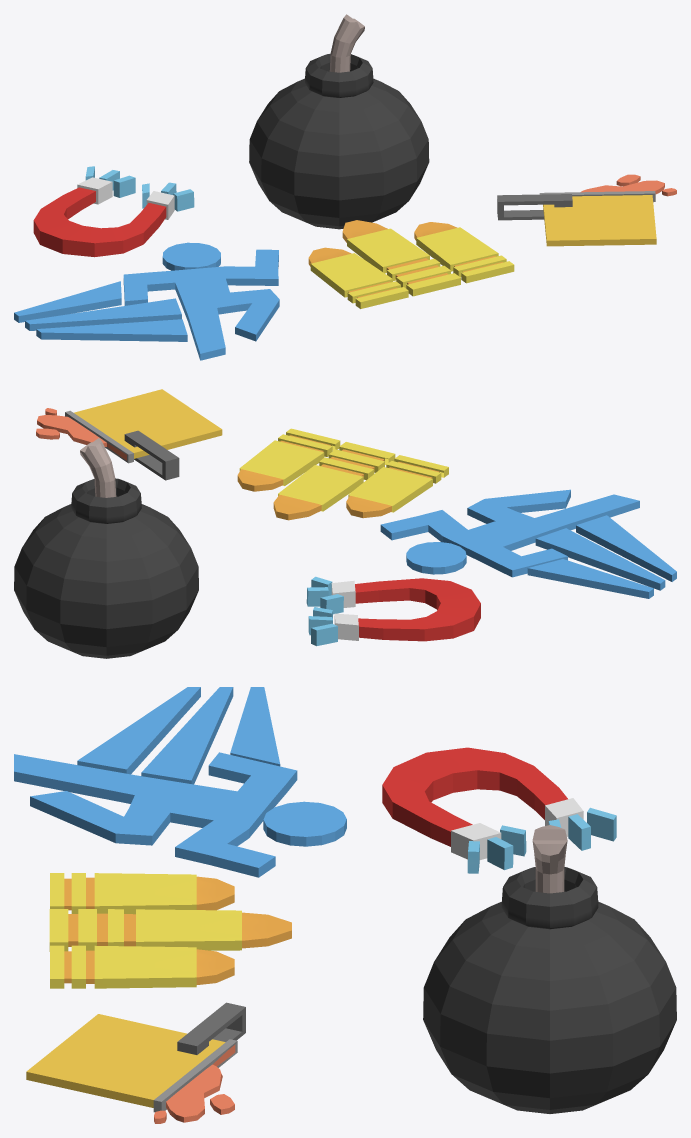
File: power ups.fbx
The picture shows the model from 3 angles, top to bottom: view 1: azimuth 30°, elevation 25°; view 2: azimuth 150°, elevation 25°; view 3: azimuth 270°, elevation 25°; orthographic projection. The views are drawn at different scales.
Parts seen in each view (by area): view 1: bomb, speed, projectiles, paint_bucket, colour_magnet; view 2: bomb, speed, projectiles, colour_magnet, paint_bucket; view 3: bomb, speed, projectiles, paint_bucket, colour_magnet.
Boxes of the visible parts, x1,y1,x2,y2 form: bomb: (249, 14, 429, 229); speed: (14, 242, 279, 360); projectiles: (308, 220, 514, 308); paint_bucket: (497, 174, 676, 246); colour_magnet: (33, 166, 194, 257); bomb: (14, 438, 198, 658); speed: (380, 489, 676, 598); projectiles: (237, 428, 448, 520); colour_magnet: (306, 576, 480, 646); paint_bucket: (36, 389, 222, 480); bomb: (423, 825, 676, 1113); speed: (14, 687, 346, 877); projectiles: (49, 873, 291, 988); paint_bucket: (26, 1002, 245, 1123); colour_magnet: (382, 747, 616, 873).
Bounding box in the file's own units: 91.63 × 27.78 × 59.79.
